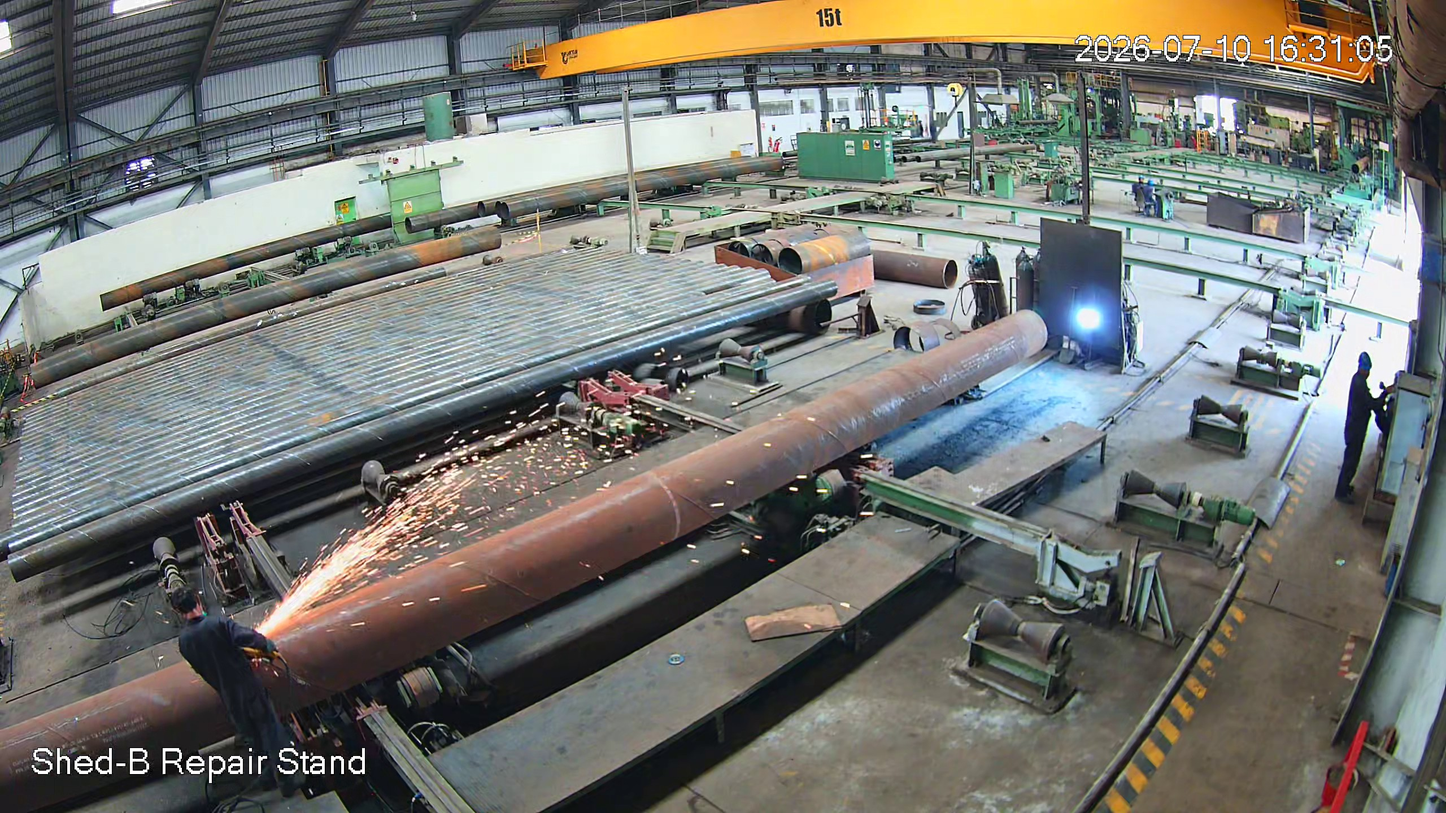Helmet: (1351, 350, 1385, 391)
Person: (166, 586, 324, 802), (1333, 353, 1380, 511)
